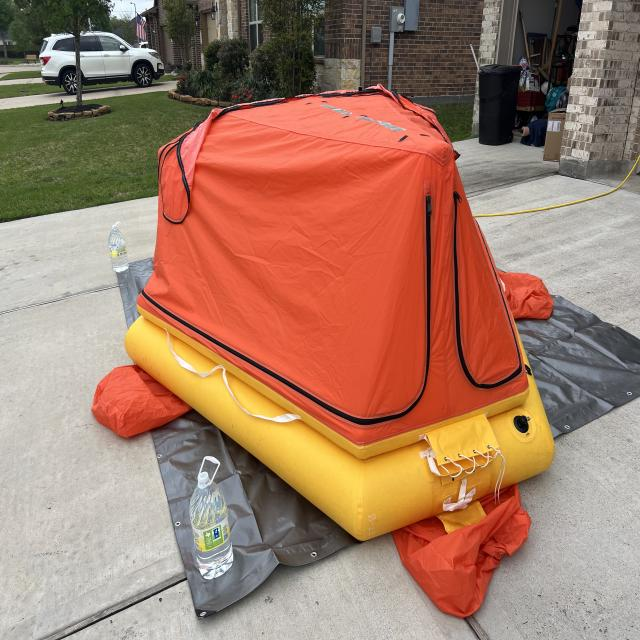Multi-person_life_raft: (90, 82, 554, 618)
